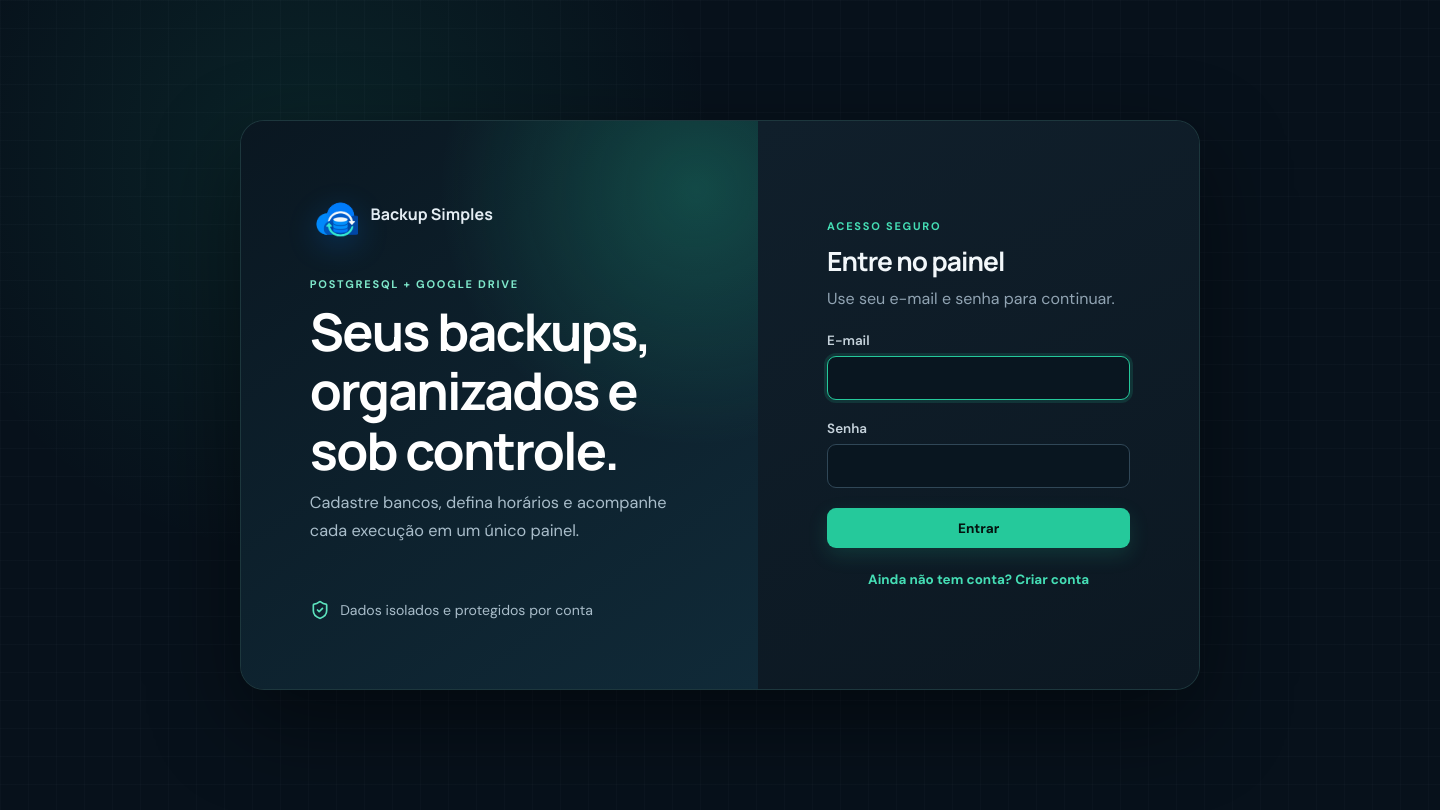
App › permite criar conta com nome, sobrenome, e-mail e senha
Click the button "Ainda não tem conta? Criar conta" at [979, 580], box [827,568,1130,592]
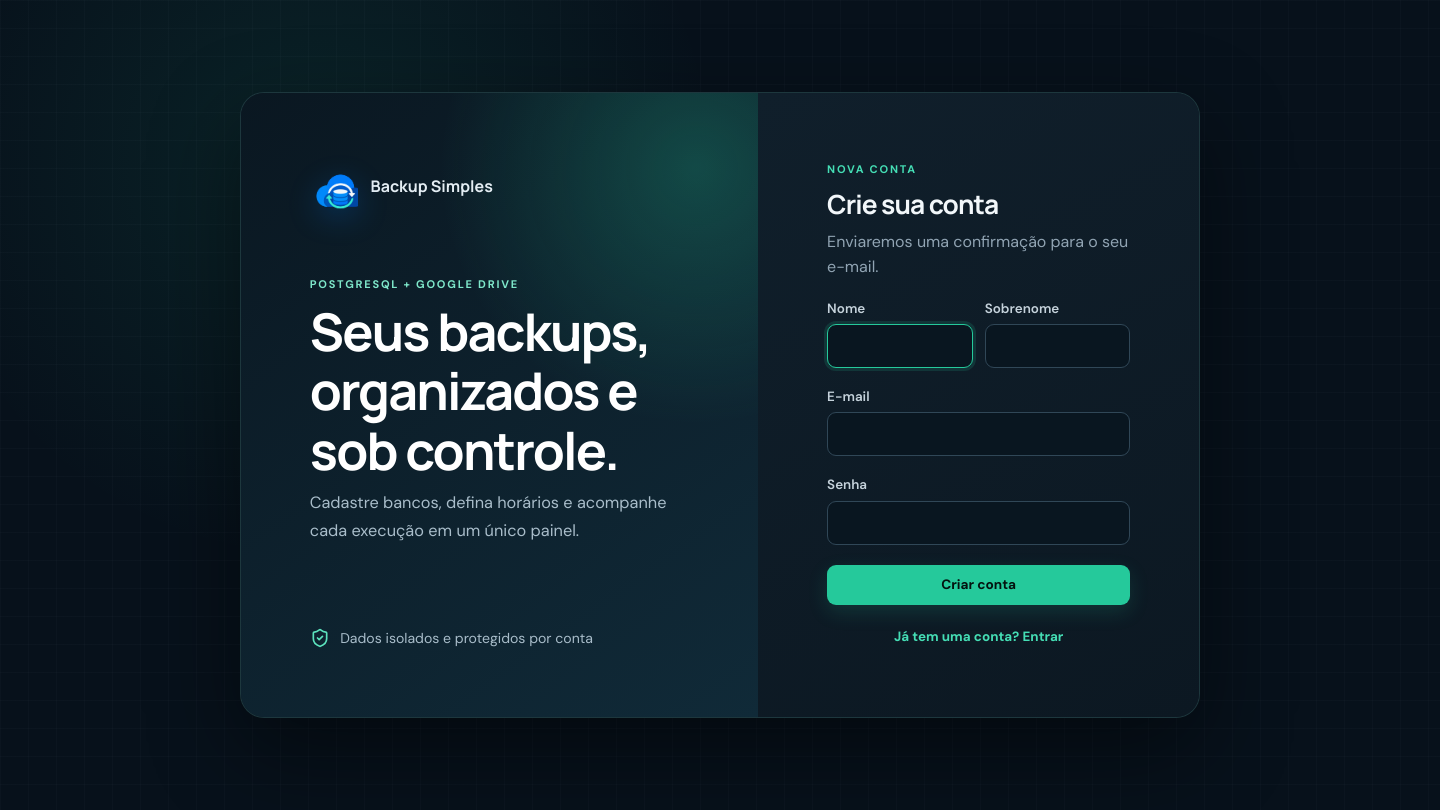
Type "Ana" into the field labelled "Nome" at [900, 346], box [827,324,973,368]
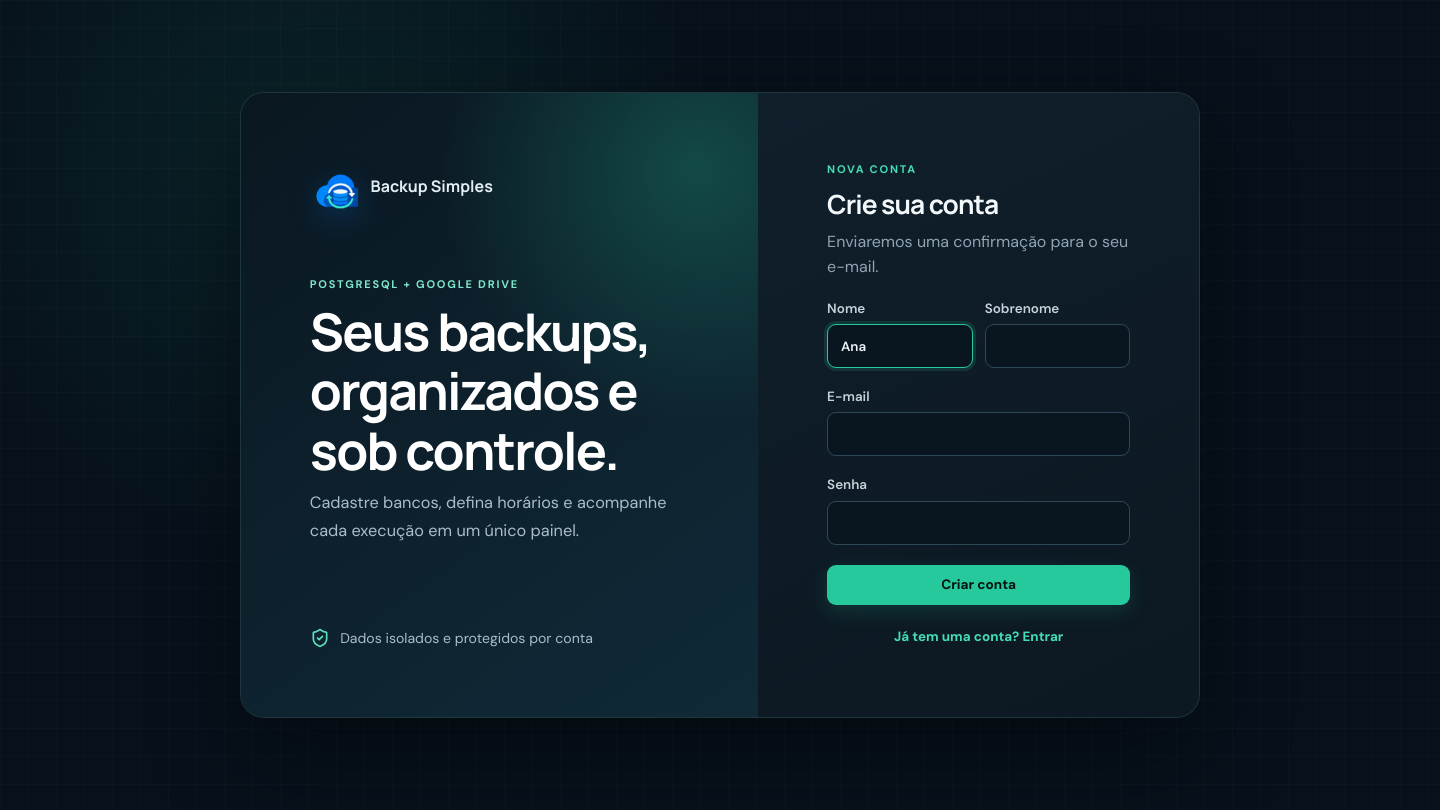
Type "Silva" into the field labelled "Sobrenome" at [1057, 346], box [985,324,1130,368]
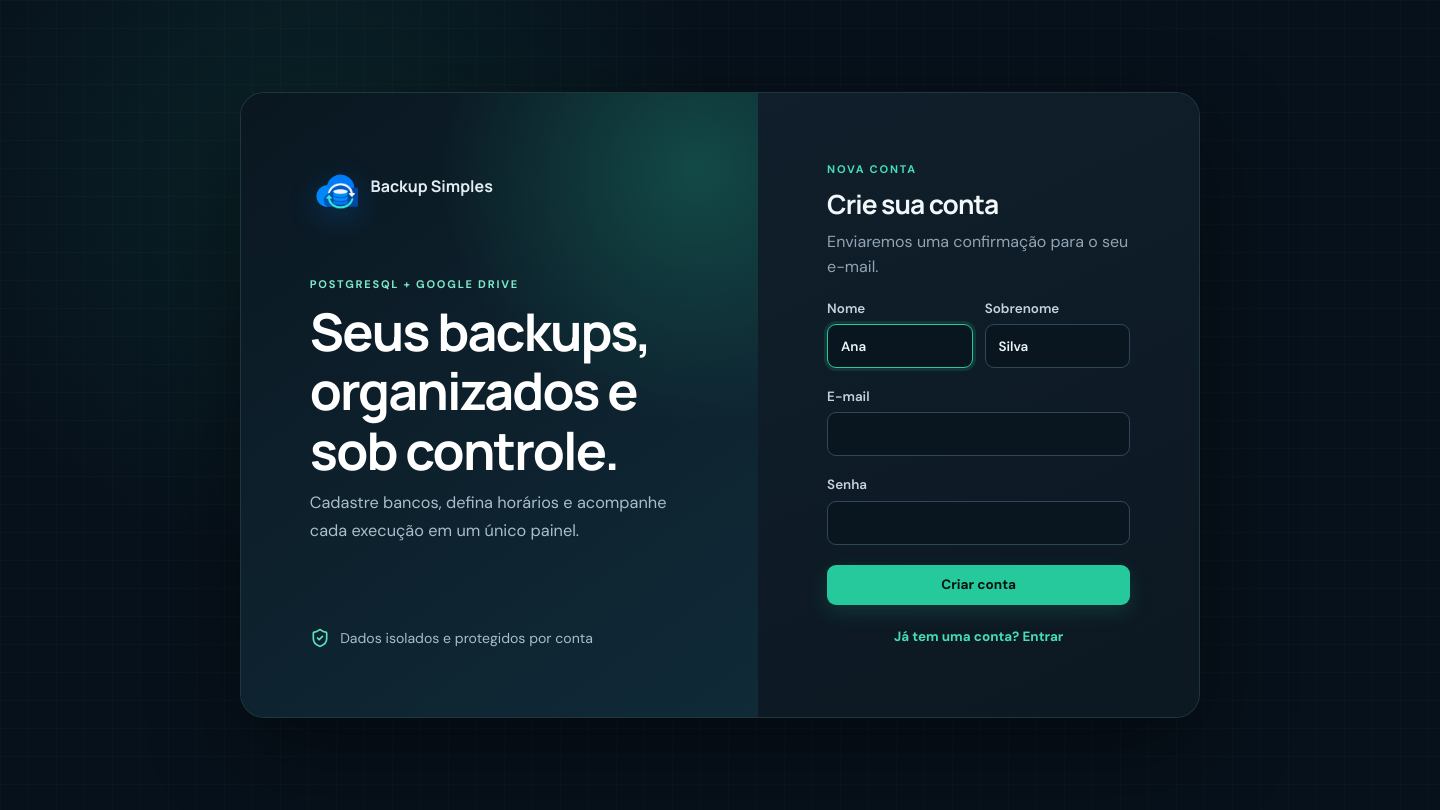
Type "ana@example.com" into the field labelled "E-mail" at [979, 434], box [827,412,1130,456]
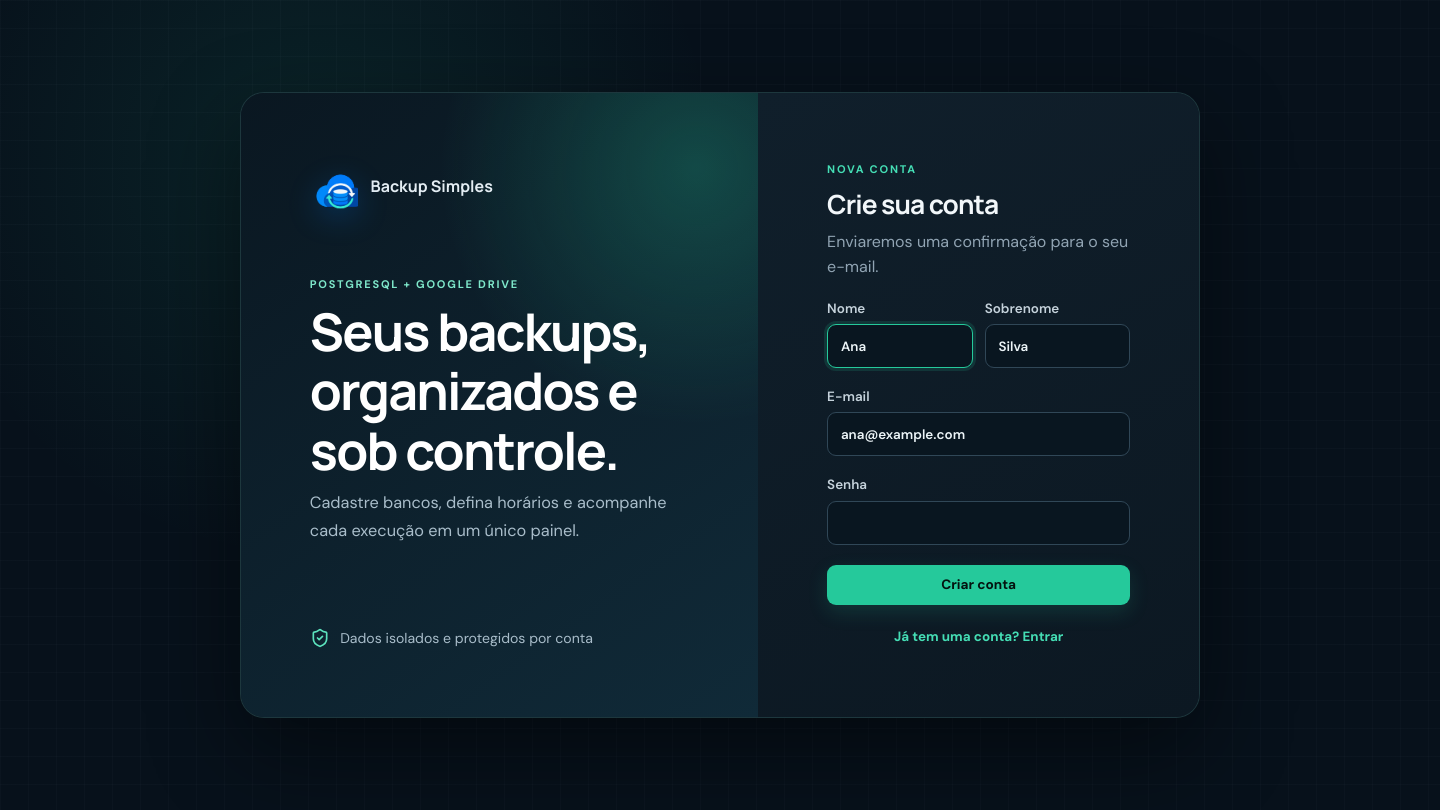
Type "senha-segura" into the password field labelled "Senha" at [979, 523], box [827,501,1130,545]
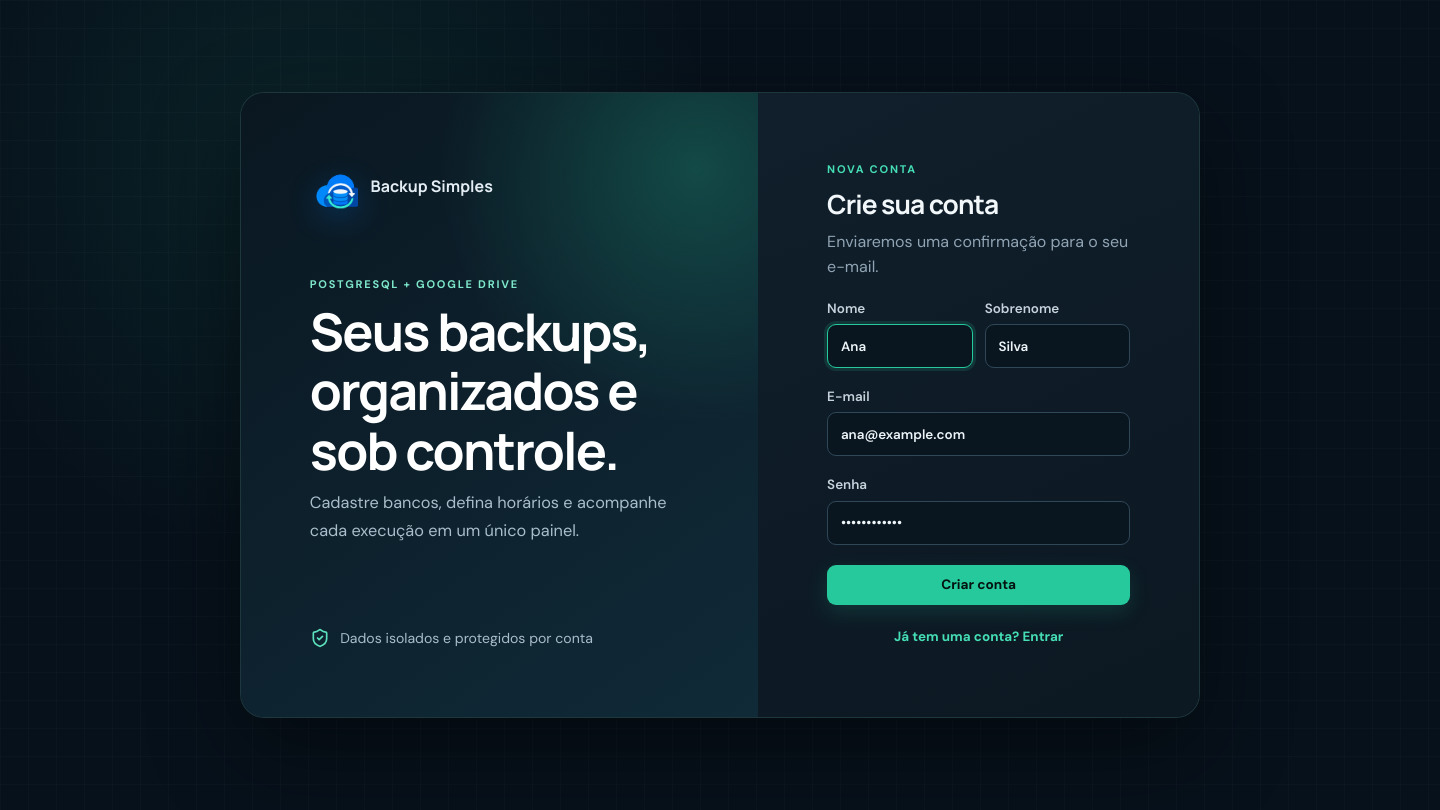
Click the button "Criar conta" at [979, 585], box [827,565,1130,605]
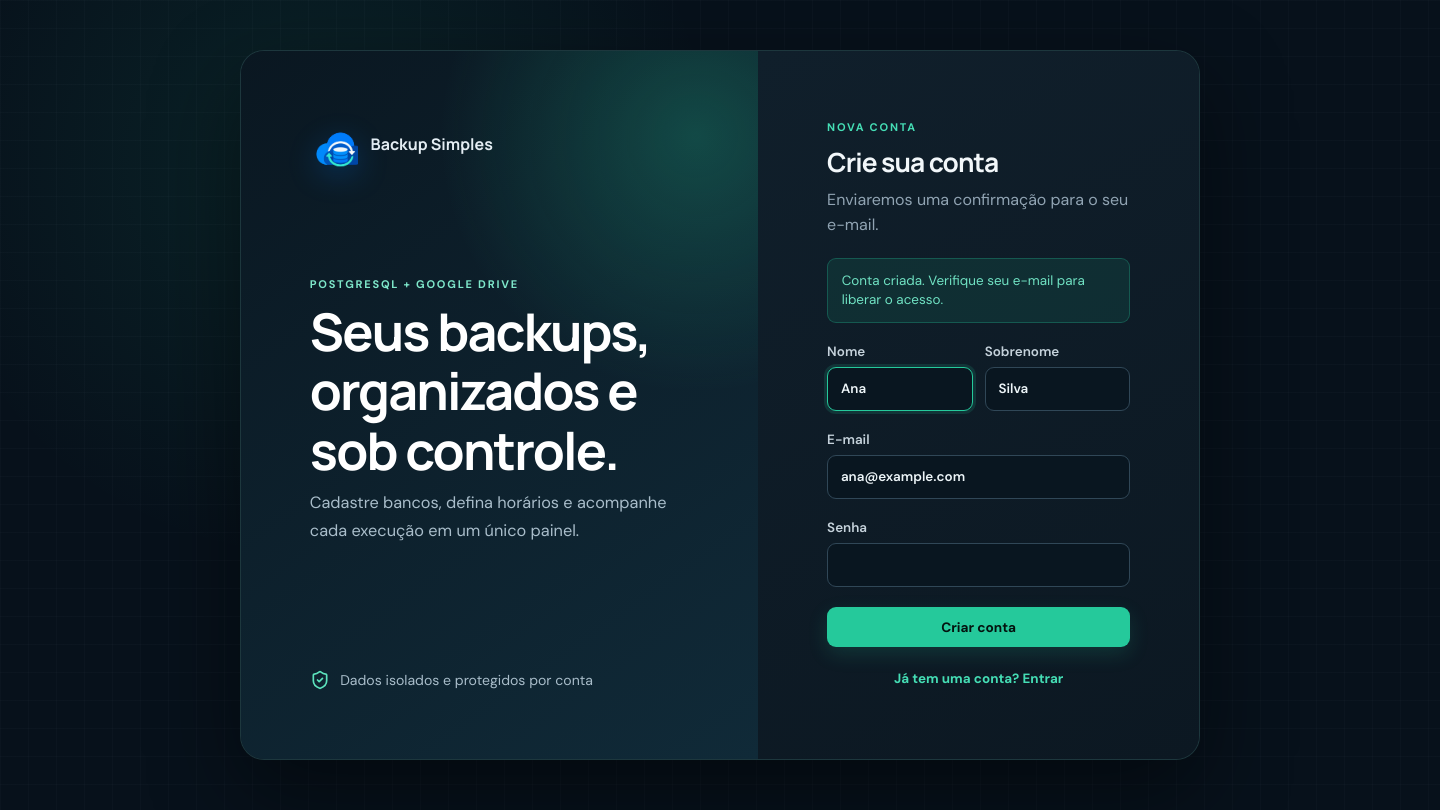
expect the text "Conta criada. Verifique seu e-mail para liberar o acesso." is shown: met, box [827,258,1130,322]
